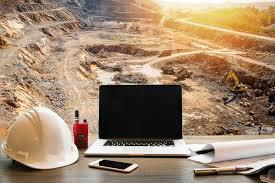Smartphone: (84, 158, 149, 178)
